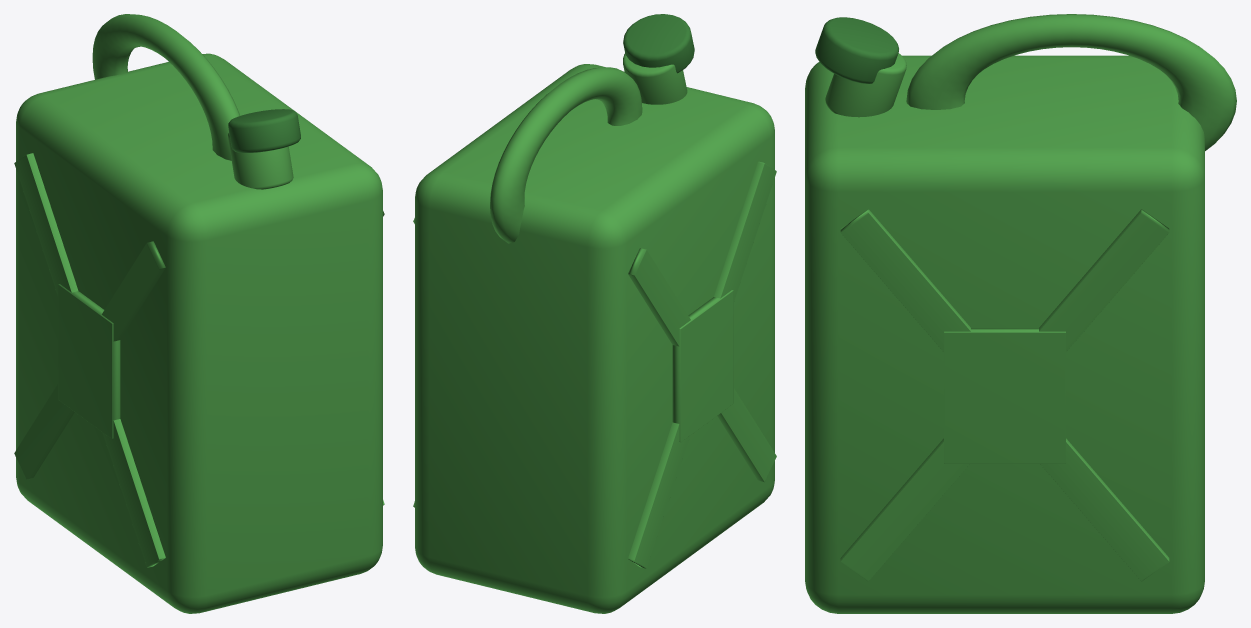
The model's file is Bidon40L.fbx.
3 views of the same model, side by side, from view 1: azimuth 30°, elevation 25°; view 2: azimuth 150°, elevation 25°; view 3: azimuth 270°, elevation 25° (orthographic). The views are drawn at different scales.
Visible parts, largest first — view 1: Bidon40L_Body, Bidon40L_Plate_L, Bidon40L_Handle, Bidon40L_Rib_Lb, Bidon40L_Rib_La, Bidon40L_Cap, Bidon40L_Spout; view 2: Bidon40L_Body, Bidon40L_Handle, Bidon40L_Plate_L, Bidon40L_Rib_La, Bidon40L_Rib_Lb, Bidon40L_Cap, Bidon40L_Spout; view 3: Bidon40L_Body, Bidon40L_Plate_R, Bidon40L_Handle, Bidon40L_Rib_Ra, Bidon40L_Rib_Rb, Bidon40L_Cap, Bidon40L_Spout.
Part boxes in pixels (<box>): Bidon40L_Body: <box>16,53,382,613</box>; Bidon40L_Plate_L: <box>58,284,120,438</box>; Bidon40L_Handle: <box>92,14,239,160</box>; Bidon40L_Rib_Lb: <box>14,153,165,567</box>; Bidon40L_Rib_La: <box>14,241,165,479</box>; Bidon40L_Cap: <box>228,109,300,152</box>; Bidon40L_Spout: <box>228,132,293,189</box>; Bidon40L_Body: <box>415,64,774,613</box>; Bidon40L_Handle: <box>490,67,642,243</box>; Bidon40L_Plate_L: <box>672,290,733,441</box>; Bidon40L_Rib_La: <box>628,161,776,568</box>; Bidon40L_Rib_Lb: <box>628,248,776,482</box>; Bidon40L_Cap: <box>623,14,694,73</box>; Bidon40L_Spout: <box>623,53,687,104</box>; Bidon40L_Body: <box>805,55,1204,613</box>; Bidon40L_Plate_R: <box>944,328,1065,463</box>; Bidon40L_Handle: <box>906,14,1236,150</box>; Bidon40L_Rib_Ra: <box>840,209,1169,581</box>; Bidon40L_Rib_Rb: <box>840,209,1169,581</box>; Bidon40L_Cap: <box>815,17,898,83</box>; Bidon40L_Spout: <box>825,53,906,117</box>.
Size of the model in its own units: 0.27 by 0.547 by 0.3888.
